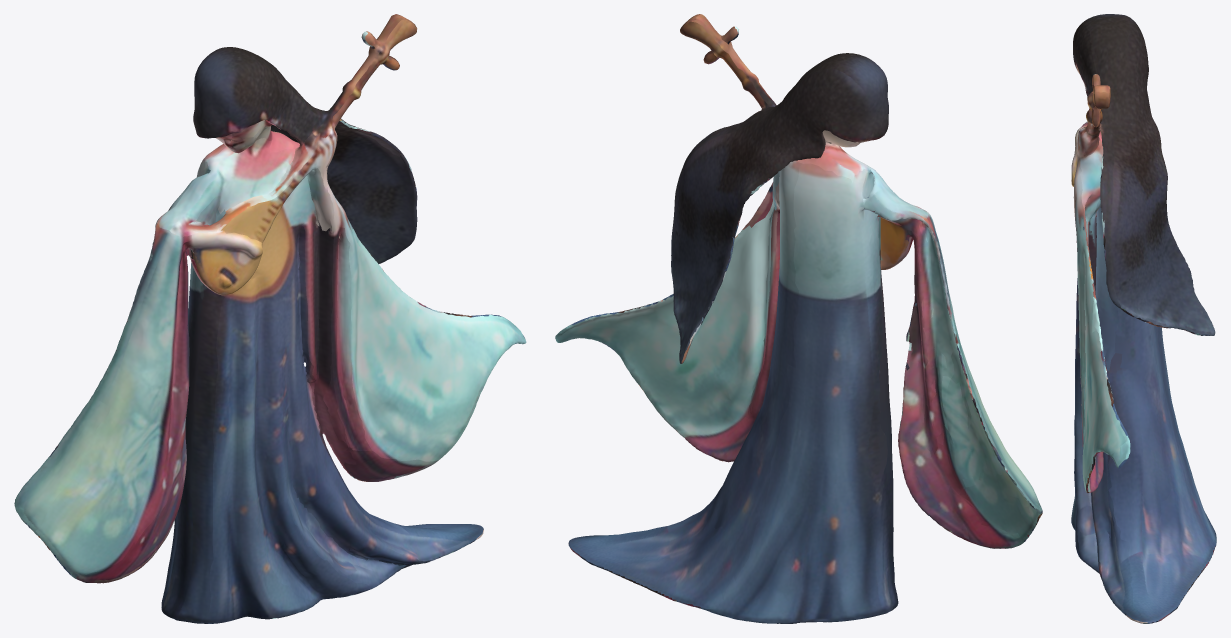
File: thuykieu.glb
3 renders of one model, left to right at view 1: azimuth 30°, elevation 25°; view 2: azimuth 150°, elevation 25°; view 3: azimuth 270°, elevation 25°, orthographic. The views are drawn at different scales.
Visible parts, largest first — view 1: world; view 2: world; view 3: world.
Boxes of the visible parts, <box> form: world: <box>14,14,526,623</box>; world: <box>555,14,1042,623</box>; world: <box>1071,14,1216,623</box>.
Size of the model in its own units: 0.9296 by 0.9813 by 0.2624.
Materials: 1 (1 with a texture image).
